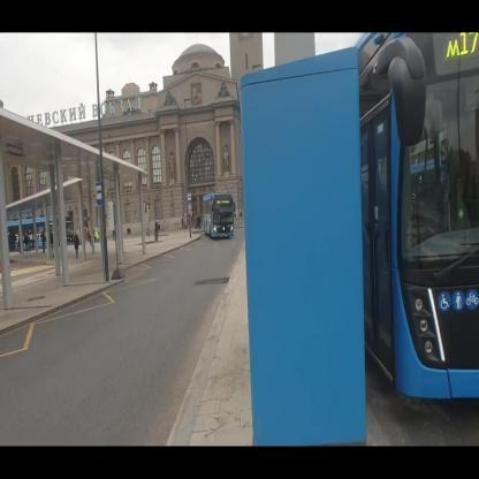bus: (358, 36, 479, 412), (201, 193, 236, 238)
